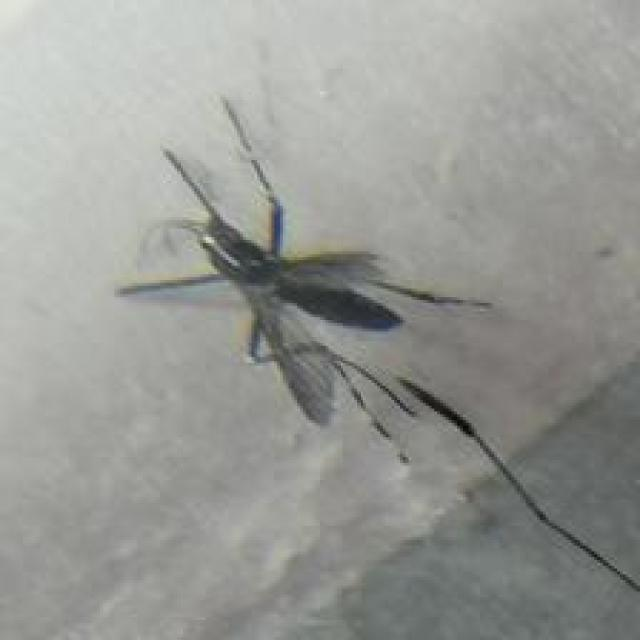Aedes albopictus: (114, 94, 640, 600)
